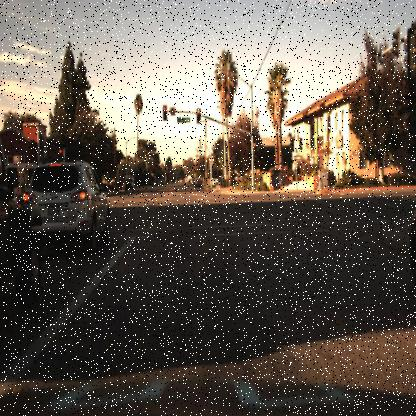car: (22, 157, 111, 254), (36, 153, 111, 263), (0, 136, 38, 313), (121, 169, 138, 198), (122, 175, 136, 195)
trafficLight-Red: (251, 139, 258, 157), (193, 105, 202, 118), (251, 137, 258, 151), (195, 106, 201, 122)
trafficLight-RedLeft: (161, 100, 169, 121), (54, 146, 64, 162), (160, 102, 169, 118)
